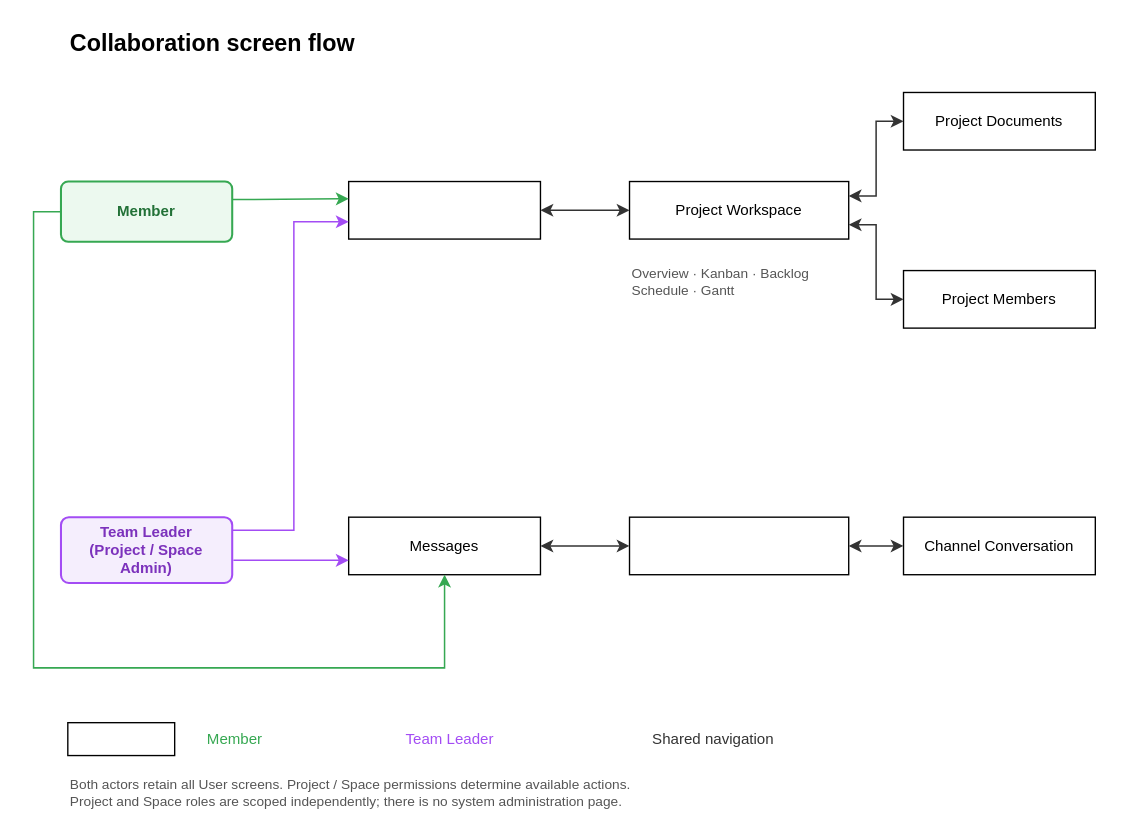
The diagram is 1121 pixels wide and 838 high, and some of its shapes have lost their labels. The centre of each missing label's shape, as x and y in pixels:
"LEGEND" goes at point 120,738.
"Projects" goes at point 443,209.
"Space / Channels" goes at point 738,545.
